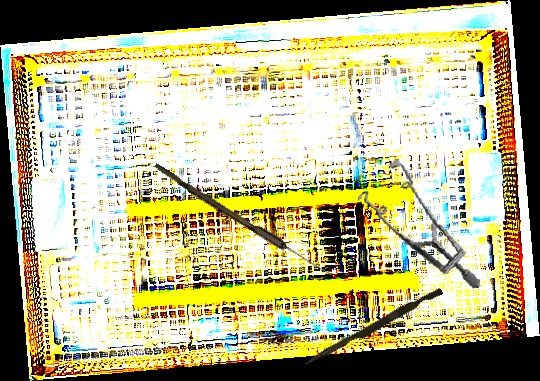Pusher: (303, 283, 444, 372)
Speculum: (352, 148, 481, 306)
Surgical Spoon: (151, 163, 335, 279)
